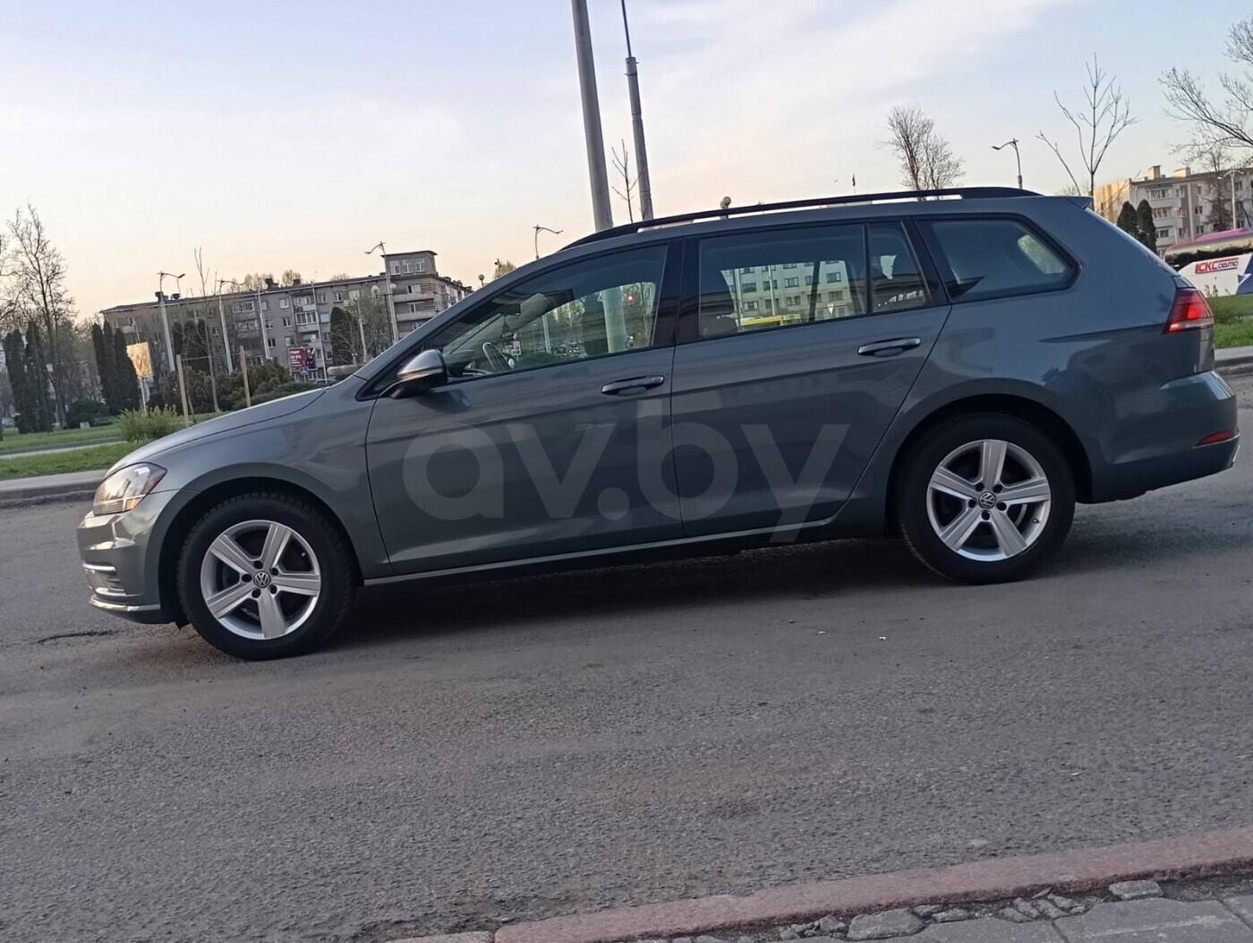Golf_2017-2021: (75, 185, 1242, 653)
